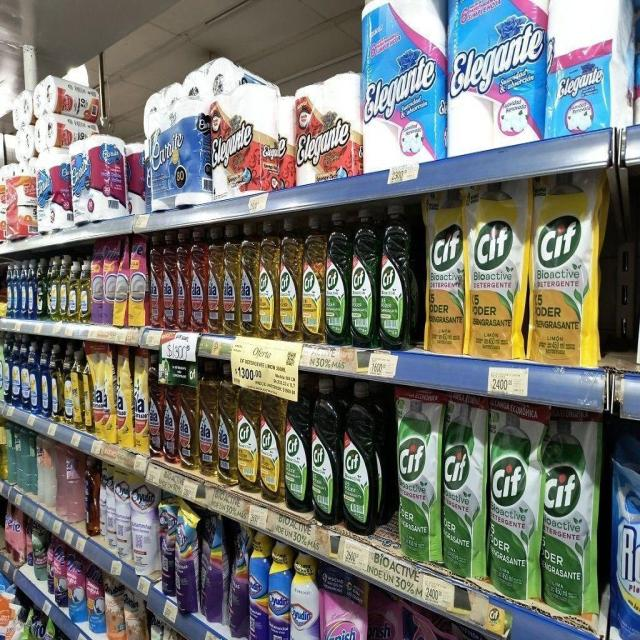ala_conc_amarillo: (218, 362, 236, 486), (199, 358, 217, 477), (179, 361, 198, 472), (240, 221, 258, 337), (223, 223, 240, 336), (208, 226, 222, 334)
ala_conc_rojo: (191, 226, 207, 332), (163, 365, 178, 464), (148, 358, 162, 458), (148, 232, 162, 328), (177, 229, 190, 331), (163, 230, 176, 330)
ala_sachet_amarillo: (116, 345, 132, 448), (134, 348, 148, 453)
cif_conc_bot_amarilla: (260, 379, 284, 503), (302, 214, 324, 344), (279, 216, 301, 340), (237, 378, 259, 492), (259, 218, 278, 339)
cif_conc_botella_verde: (342, 380, 376, 534), (379, 201, 411, 350), (311, 376, 340, 525), (350, 206, 378, 347), (284, 375, 310, 513), (325, 210, 349, 346)
cif_conc_sachet_amarillo: (530, 173, 598, 366), (467, 181, 527, 360), (426, 190, 466, 355)
cif_conc_sachet_verde: (542, 414, 596, 614), (489, 403, 539, 599), (443, 394, 486, 578), (397, 386, 441, 562)
magistral_con_amarillo: (68, 259, 80, 323), (48, 256, 59, 322), (80, 259, 90, 323), (59, 256, 68, 322)
magistral_con_azul: (30, 341, 40, 414), (11, 338, 21, 406), (21, 340, 30, 410)
